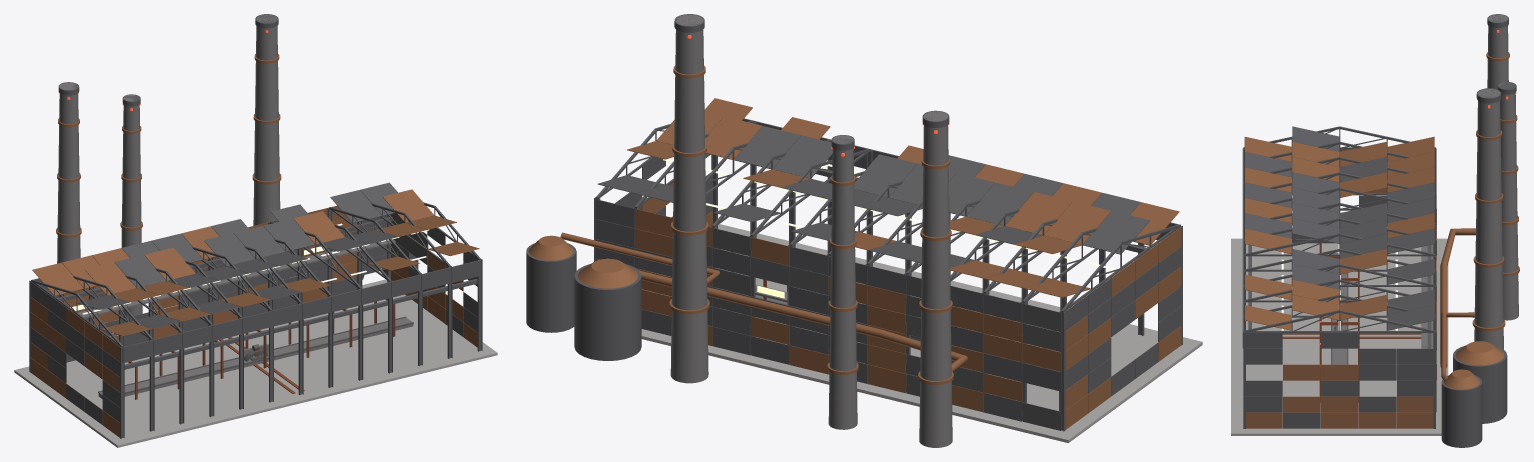
Rendered from factory.glb.
3 views of the same model, side by side, from view 1: azimuth 30°, elevation 25°; view 2: azimuth 150°, elevation 25°; view 3: azimuth 270°, elevation 25° (orthographic). The views are drawn at different scales.
Parts seen in each view (by area): view 1: factory_hall, factory_chimneys; view 2: factory_hall, factory_chimneys; view 3: factory_hall, factory_chimneys, crane_bridge.
Boxes of the visible parts, bbox=[...] form: factory_hall: bbox=[14, 182, 497, 447]; factory_chimneys: bbox=[56, 14, 418, 317]; factory_hall: bbox=[594, 98, 1202, 442]; factory_chimneys: bbox=[526, 14, 967, 447]; factory_hall: bbox=[1231, 126, 1448, 435]; factory_chimneys: bbox=[1440, 14, 1519, 447]; crane_bridge: bbox=[1282, 333, 1421, 338].
Bounding box in the file's own units: 110 × 75.2 × 63.8.
